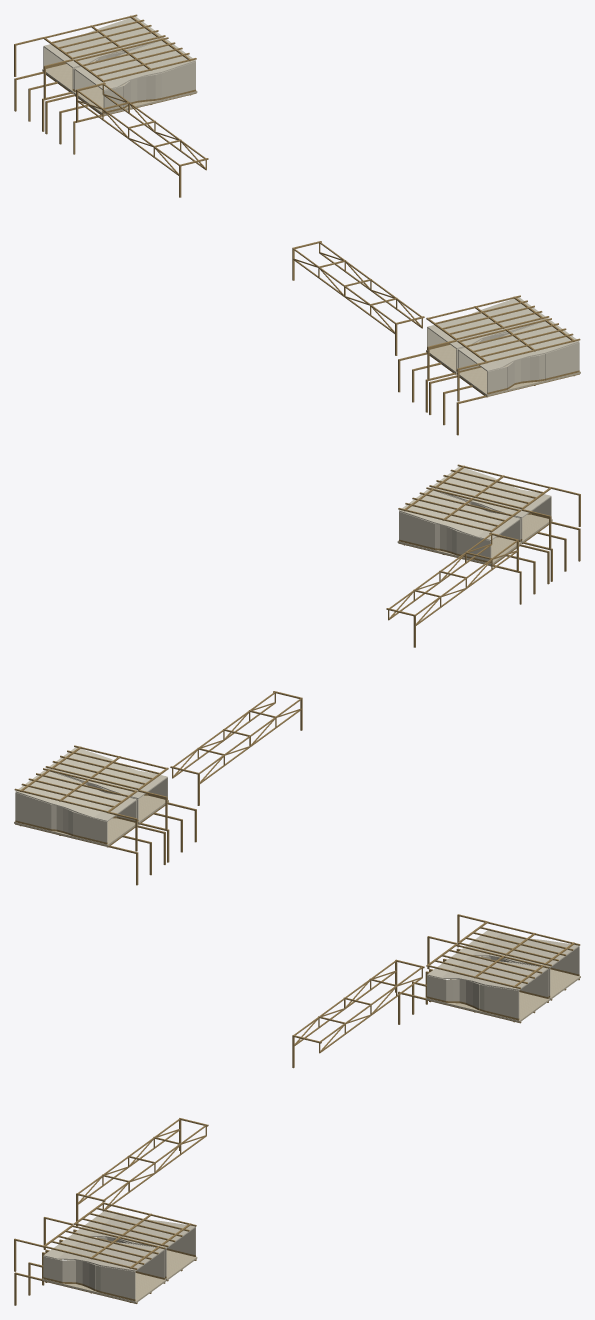
Rendered from StarAtlasSpecialtyStructuralReceiving.glb.
3 renders of one model, top to bottom at view 1: azimuth 30°, elevation 25°; view 2: azimuth 150°, elevation 25°; view 3: azimuth 330°, elevation 25°, orthographic.
Parts seen in each view (by area): view 1: Persistent_443_SUI_Wall_R7, Persistent_413_SUI_Wall_R7, Persistent_443_SUI_Floor, Persistent_413_SUI_Floor; view 2: Persistent_437_SUI_Wall_L6, Persistent_419_SUI_Wall_L6, Persistent_437_SUI_Floor, Persistent_437_SUI_Wall_L0, Persistent_419_SUI_Floor, Persistent_419_SUI_Wall_L0; view 3: Persistent_413_SUI_Wall_R7, Persistent_443_SUI_Wall_R7, Persistent_443_SUI_Floor, Persistent_413_SUI_Floor, Persistent_419_SUI_Floor, Persistent_437_SUI_Floor.
Boxes of the visible parts, x1=… form: Persistent_443_SUI_Wall_R7: x1=545, y1=342, x2=579, y2=378; Persistent_413_SUI_Wall_R7: x1=161, y1=61, x2=195, y2=97; Persistent_443_SUI_Floor: x1=457, y1=363, x2=580, y2=396; Persistent_413_SUI_Floor: x1=73, y1=74, x2=197, y2=115; Persistent_437_SUI_Wall_L6: x1=15, y1=792, x2=51, y2=828; Persistent_419_SUI_Wall_L6: x1=399, y1=511, x2=434, y2=548; Persistent_437_SUI_Floor: x1=14, y1=818, x2=137, y2=846; Persistent_437_SUI_Wall_L0: x1=79, y1=813, x2=107, y2=842; Persistent_419_SUI_Floor: x1=397, y1=537, x2=521, y2=565; Persistent_419_SUI_Wall_L0: x1=462, y1=533, x2=491, y2=560; Persistent_413_SUI_Wall_R7: x1=484, y1=985, x2=519, y2=1018; Persistent_443_SUI_Wall_R7: x1=100, y1=1266, x2=135, y2=1299; Persistent_443_SUI_Floor: x1=42, y1=1273, x2=166, y2=1303; Persistent_413_SUI_Floor: x1=426, y1=979, x2=549, y2=1022; Persistent_419_SUI_Floor: x1=165, y1=1250, x2=197, y2=1280; Persistent_437_SUI_Floor: x1=483, y1=956, x2=580, y2=999.
Size of the model in its own units: 16.85 by 8.76 by 106.
9 materials, 9 textured.
